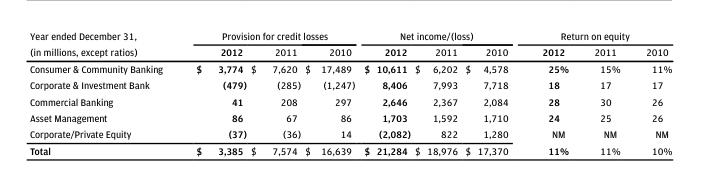table: (28, 29, 671, 156)
table column: (28, 29, 178, 156), (178, 29, 247, 156), (460, 29, 524, 156), (302, 29, 359, 156), (524, 29, 580, 156), (247, 29, 302, 156), (359, 29, 412, 156), (580, 29, 632, 156), (412, 29, 460, 156), (632, 29, 671, 156)
table column header: (28, 29, 671, 59)
table row: (28, 59, 671, 76), (28, 92, 671, 109), (28, 43, 671, 59), (28, 76, 671, 92), (28, 109, 671, 125), (28, 125, 671, 141), (28, 141, 671, 156), (28, 29, 671, 43)
table spanning cell: (28, 29, 178, 59), (178, 29, 359, 43), (359, 29, 524, 43), (524, 29, 671, 43)
